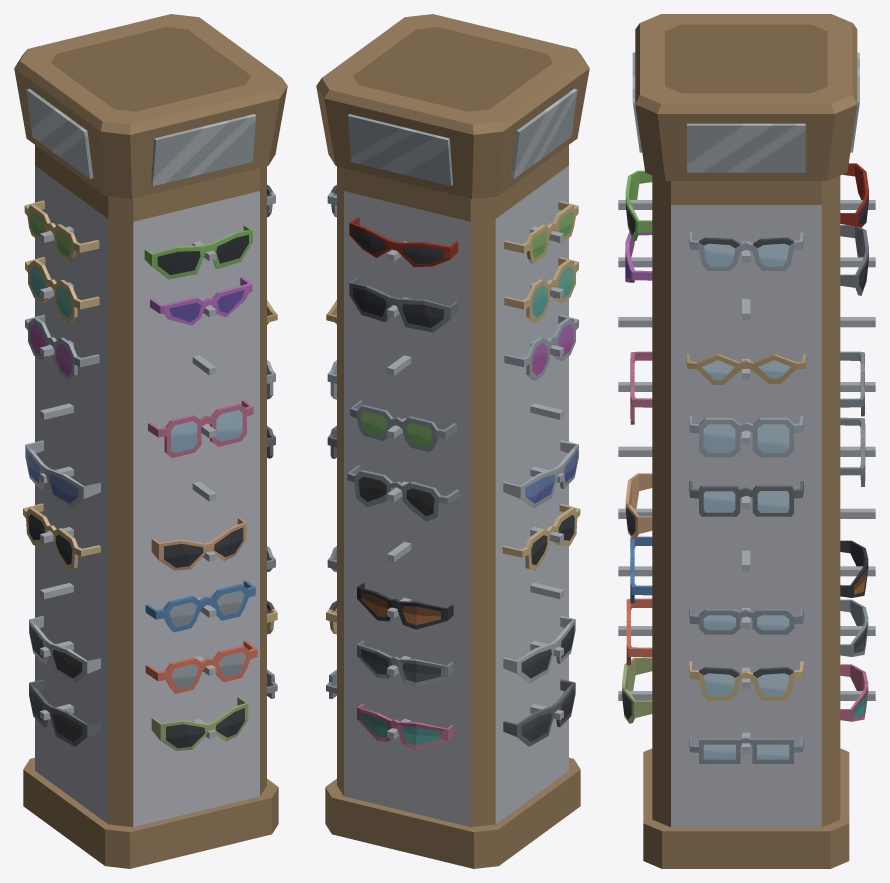
Rendered from SM_Prop_Clothes_Eyewear_Stand_02_Rack_01.obj.
3 views of the same model, side by side, from view 1: azimuth 30°, elevation 25°; view 2: azimuth 150°, elevation 25°; view 3: azimuth 270°, elevation 25° (orthographic). The views are drawn at different scales.
Parts seen in each view (by area): view 1: SM_Prop_Clothes_Eyewear_Stand_02_Rack_01_0; view 2: SM_Prop_Clothes_Eyewear_Stand_02_Rack_01_0; view 3: SM_Prop_Clothes_Eyewear_Stand_02_Rack_01_0.
Part boxes in pixels (x1,y1,x2,y2): SM_Prop_Clothes_Eyewear_Stand_02_Rack_01_0: (14, 14, 287, 868); SM_Prop_Clothes_Eyewear_Stand_02_Rack_01_0: (316, 14, 589, 868); SM_Prop_Clothes_Eyewear_Stand_02_Rack_01_0: (618, 14, 875, 868).
Size of the model in its own units: 0.5082 by 1.67 by 0.5082.
Materials: 1 (1 with a texture image).
